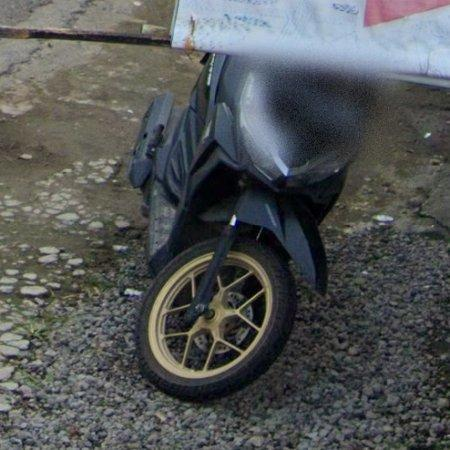motorcycles: (129, 53, 367, 400)
